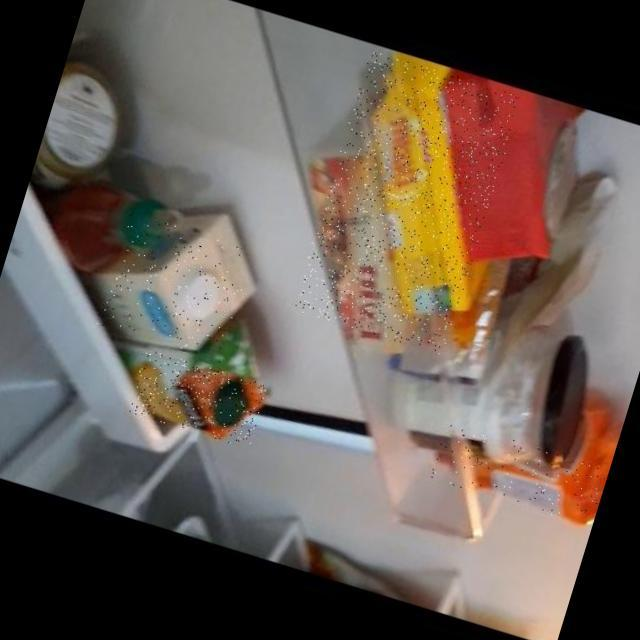Mantequilla: (291, 50, 521, 355)
